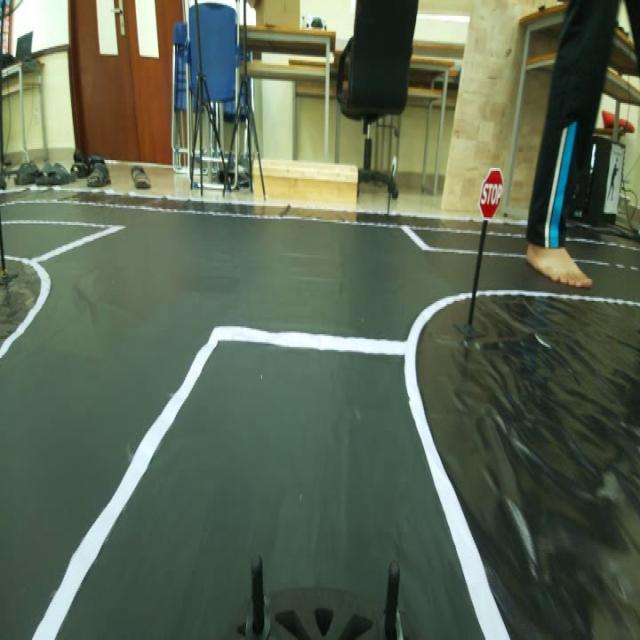stop: (474, 165, 506, 222)
